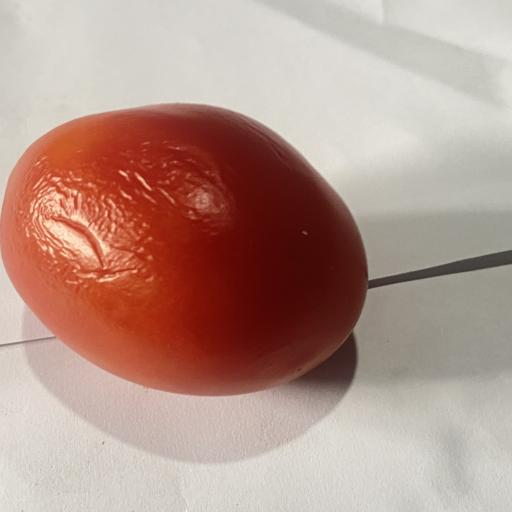spoiled: (0, 104, 367, 395)
